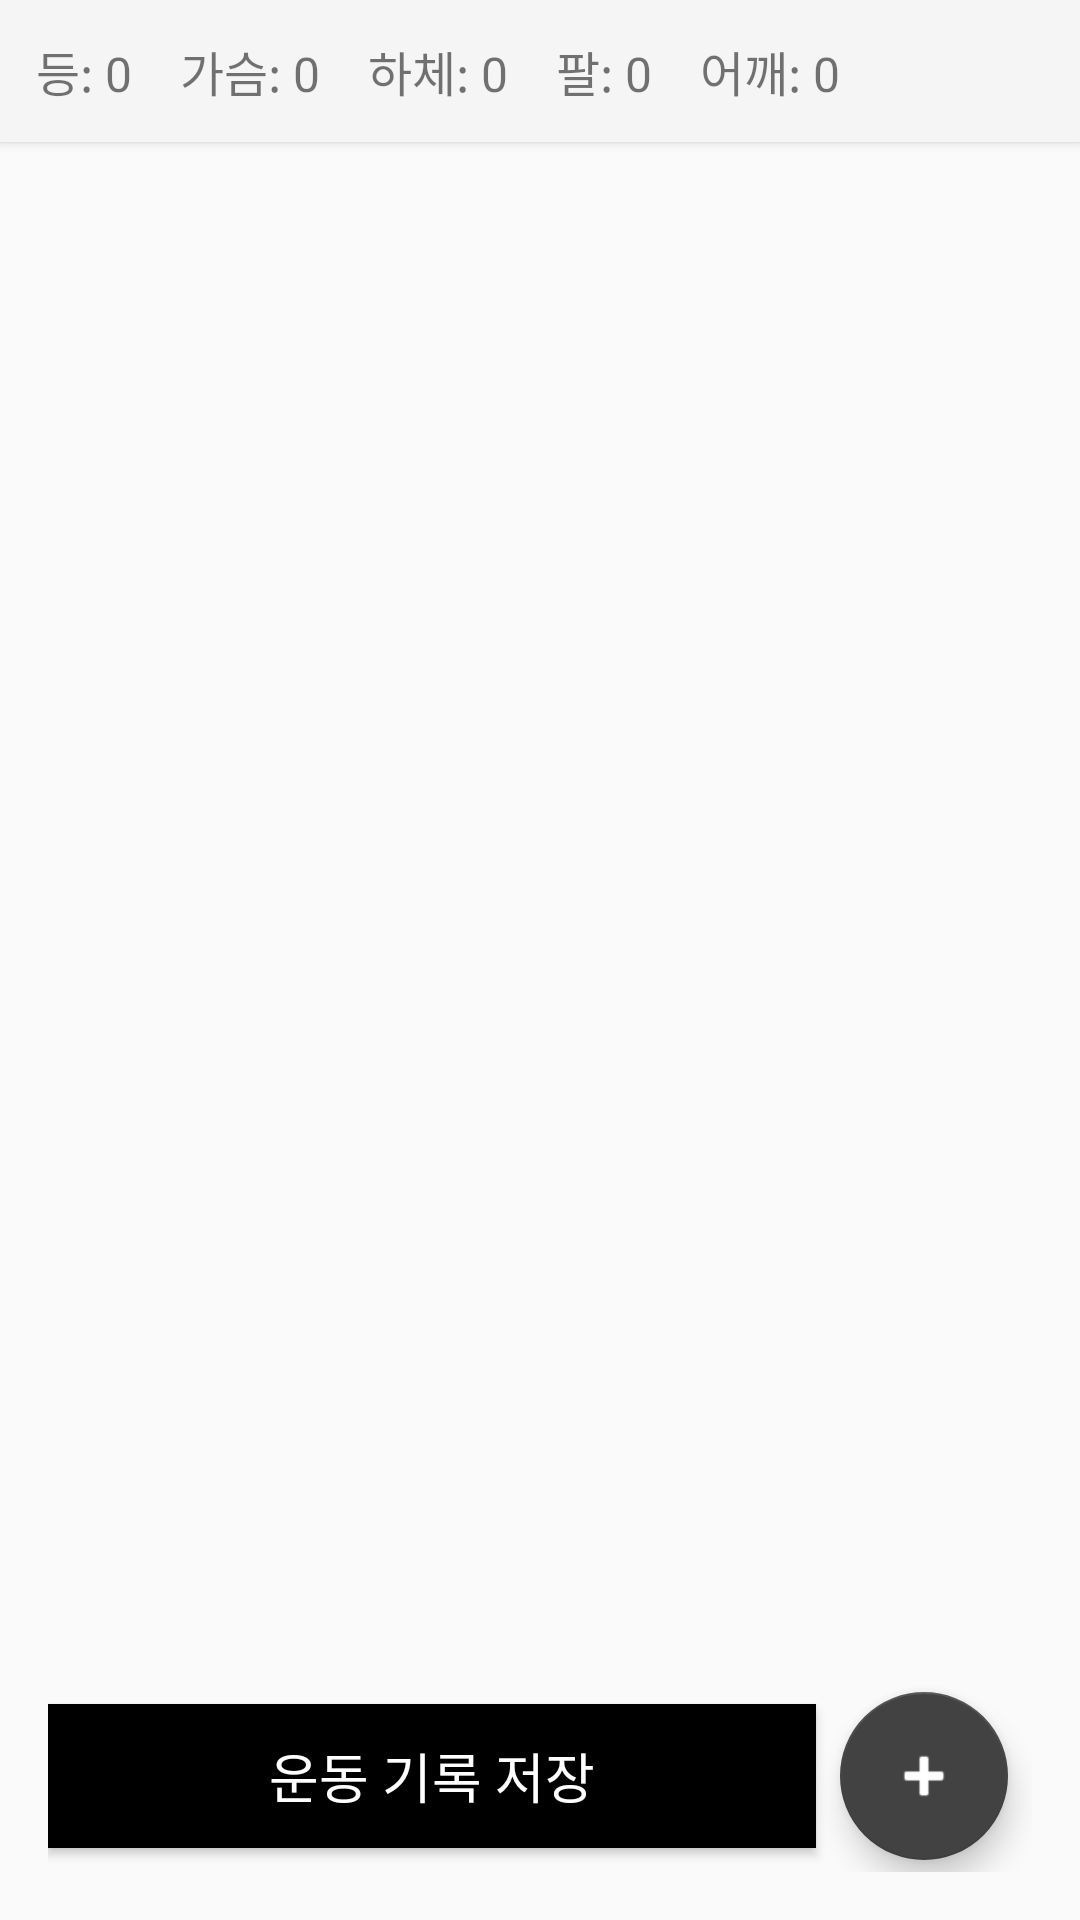

Icons on this 1080×1920 Android screen, each with the point to tap as [x,y]:
운동 기록 추가: [924,1776]
